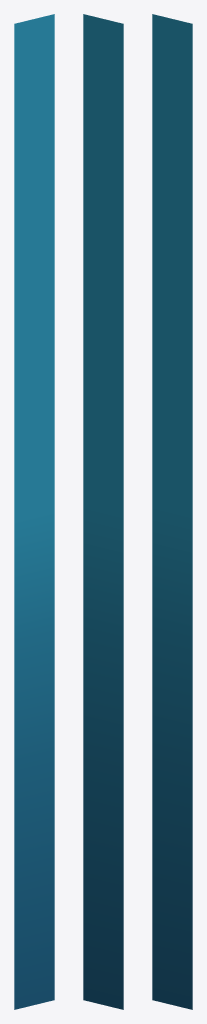
File: Waterfall_01.fbx
3 renders of one model, left to right at view 1: azimuth 30°, elevation 25°; view 2: azimuth 150°, elevation 25°; view 3: azimuth 330°, elevation 25°, orthographic.
Parts seen in each view (by area): view 1: GR_Waterfall_01; view 2: GR_Waterfall_01; view 3: GR_Waterfall_01.
Part boxes in pixels (left/top/right/bottom): GR_Waterfall_01: left=14, top=14, right=54, bottom=1009; GR_Waterfall_01: left=83, top=14, right=123, bottom=1009; GR_Waterfall_01: left=152, top=14, right=192, bottom=1009.
Bounding box in the file's own units: 60 × 1400 × 0.
